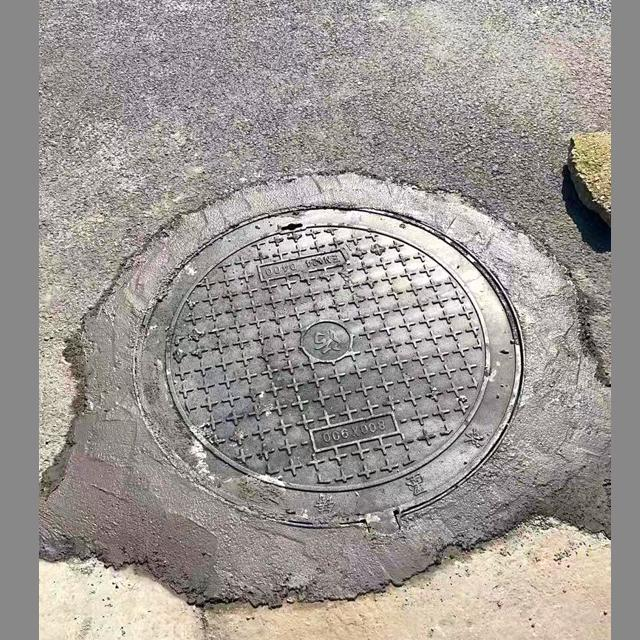good: (56, 149, 582, 602)
